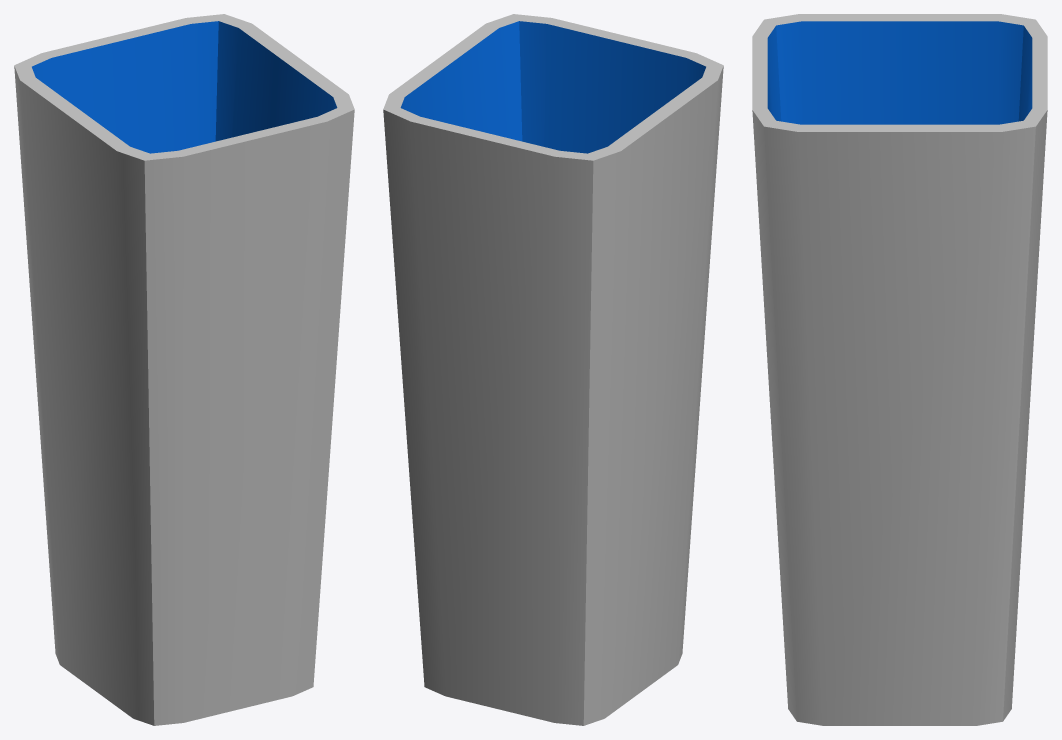
File: Vase_02_I.FBX
3 views of the same model, side by side, from view 1: azimuth 30°, elevation 25°; view 2: azimuth 150°, elevation 25°; view 3: azimuth 270°, elevation 25° (orthographic). The views are drawn at different scales.
Visible parts, largest first — view 1: Vase_02; view 2: Vase_02; view 3: Vase_02.
Part boxes in pixels (<box>): Vase_02: <box>14,14,354,725</box>; Vase_02: <box>383,14,723,725</box>; Vase_02: <box>752,14,1047,725</box>.
Bounding box in the file's own units: 37.5 × 90 × 39.6.
